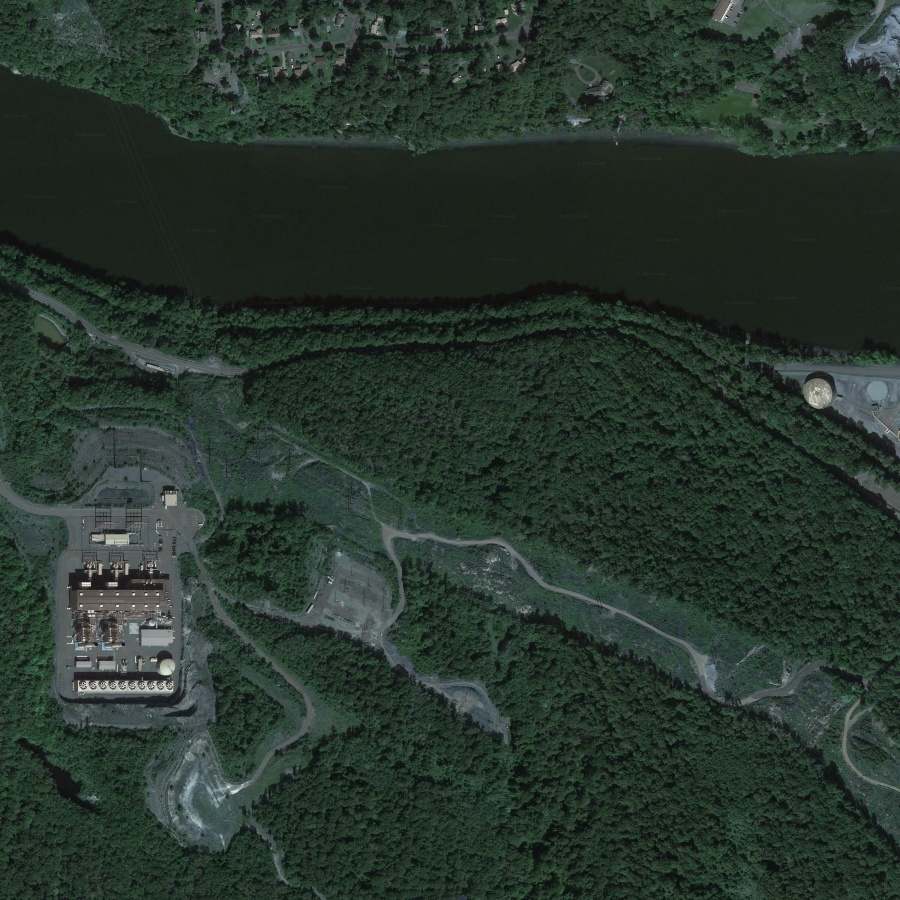PowerPlant: (60, 470, 206, 710)
